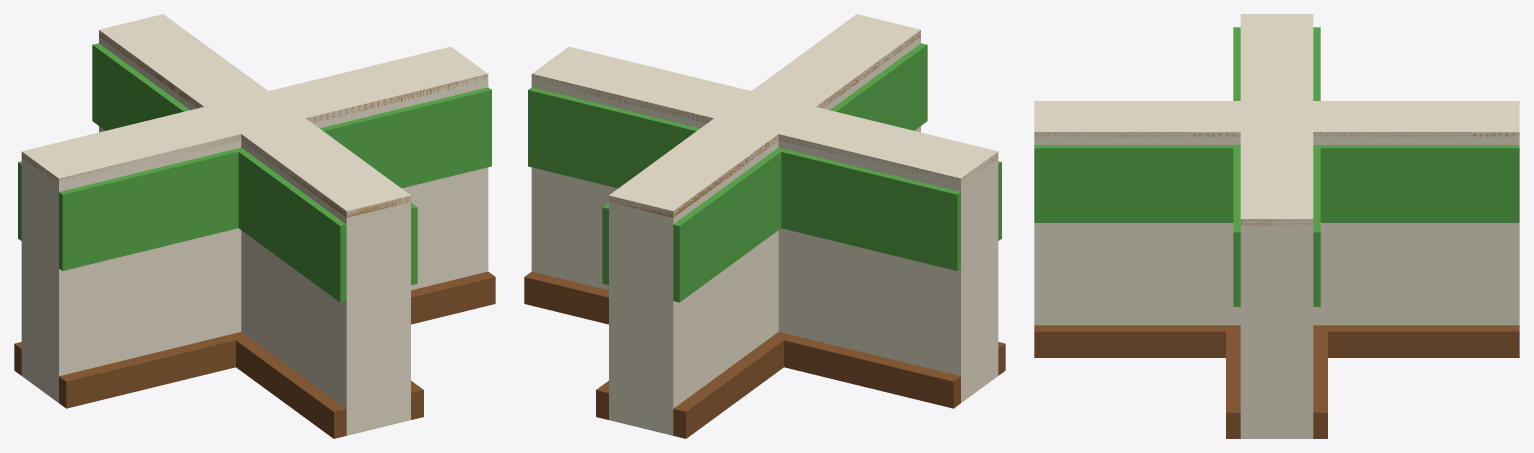
File: partition-cross.glb
The picture shows the model from 3 angles, left to right: view 1: azimuth 30°, elevation 25°; view 2: azimuth 150°, elevation 25°; view 3: azimuth 270°, elevation 25°; orthographic projection. The views are drawn at different scales.
Visible parts, largest first — view 1: partition-cross; view 2: partition-cross; view 3: partition-cross.
Part boxes in pixels (box(x1,y1,x2,y2)): partition-cross: box(14, 14, 495, 438); partition-cross: box(524, 14, 1005, 438); partition-cross: box(1034, 14, 1519, 438).
Size of the model in its own units: 1 by 0.5 by 1.
Materials: 1 (1 with a texture image).
